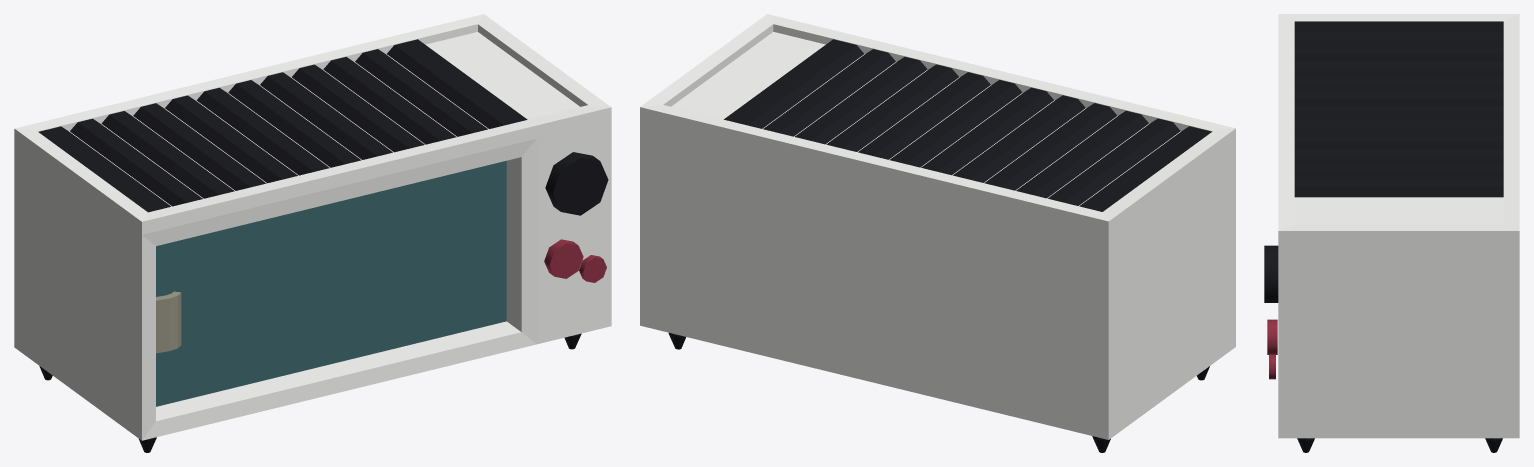
File: SM_microwave.fbx
The picture shows the model from 3 angles, left to right: view 1: azimuth 30°, elevation 25°; view 2: azimuth 150°, elevation 25°; view 3: azimuth 270°, elevation 25°; orthographic projection. The views are drawn at different scales.
Visible parts, largest first — view 1: microwave; view 2: microwave; view 3: microwave.
Part boxes in pixels (<box>): microwave: <box>14,14,611,452</box>; microwave: <box>640,14,1235,452</box>; microwave: <box>1264,14,1519,452</box>.
Bounding box in the file's own units: 88.56 × 44.21 × 44.08.
